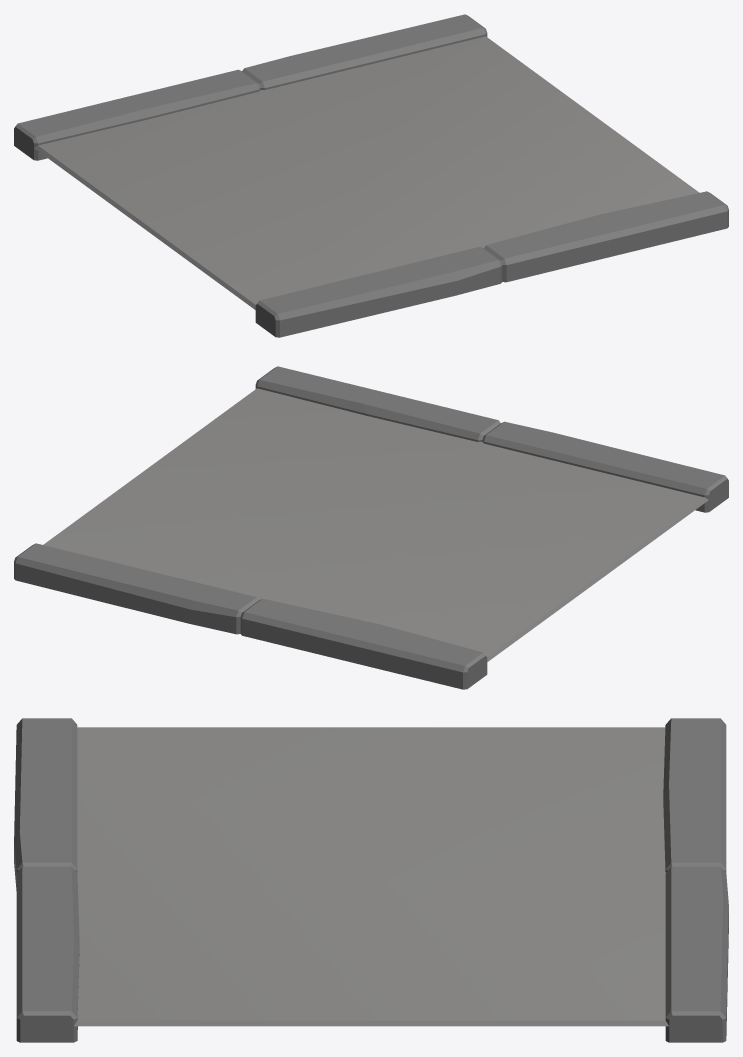
File: SM_Envr_Road_Sidewalk_Median_01.fbx
3 views of the same model, one above another, from view 1: azimuth 30°, elevation 25°; view 2: azimuth 150°, elevation 25°; view 3: azimuth 270°, elevation 25° (orthographic). The views are drawn at different scales.
Parts seen in each view (by area): view 1: SM_Envr_Road_Sidewalk_Median_01; view 2: SM_Envr_Road_Sidewalk_Median_01; view 3: SM_Envr_Road_Sidewalk_Median_01.
Part boxes in pixels (x1,y1,x2,y2): SM_Envr_Road_Sidewalk_Median_01: (14, 14, 728, 337); SM_Envr_Road_Sidewalk_Median_01: (14, 366, 728, 689); SM_Envr_Road_Sidewalk_Median_01: (14, 718, 728, 1042).
Size of the model in its own units: 500 by 25.53 by 509.
